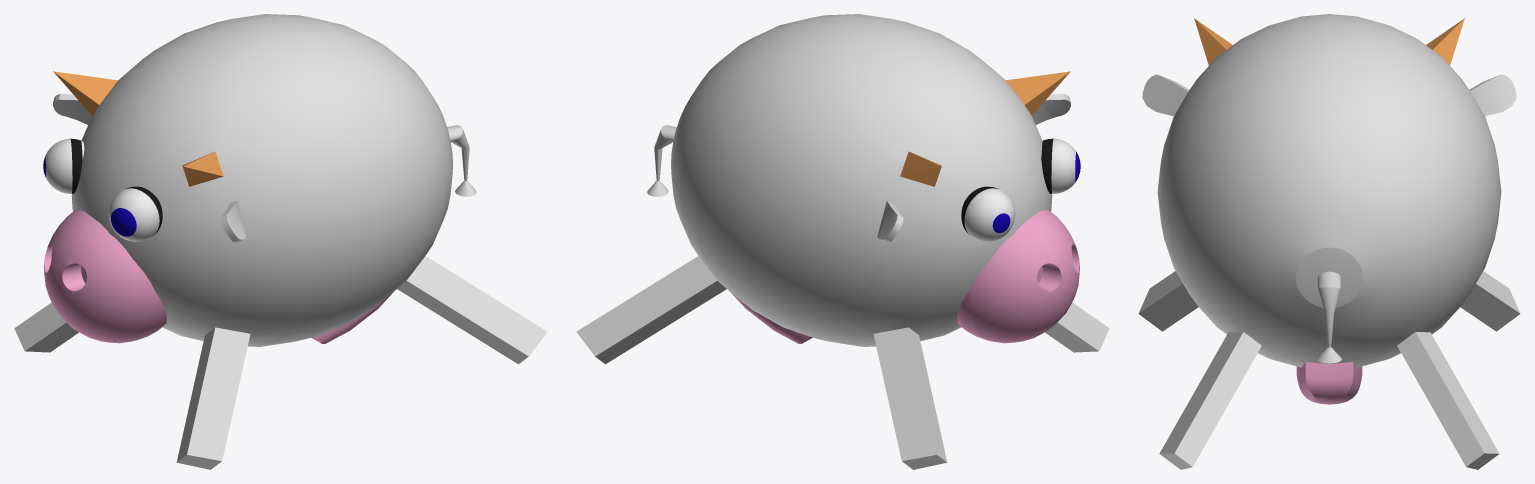
File: Cow.fbx
The picture shows the model from 3 angles, left to right: view 1: azimuth 30°, elevation 25°; view 2: azimuth 150°, elevation 25°; view 3: azimuth 270°, elevation 25°; orthographic projection. The views are drawn at different scales.
Parts seen in each view (by area): view 1: Sphere.001; view 2: Sphere.001; view 3: Sphere.001.
Part boxes in pixels (x1,y1,x2,y2): Sphere.001: (14, 14, 547, 469); Sphere.001: (576, 14, 1109, 469); Sphere.001: (1138, 14, 1520, 469).
Bounding box in the file's own units: 32.54 × 24.55 × 25.69.
